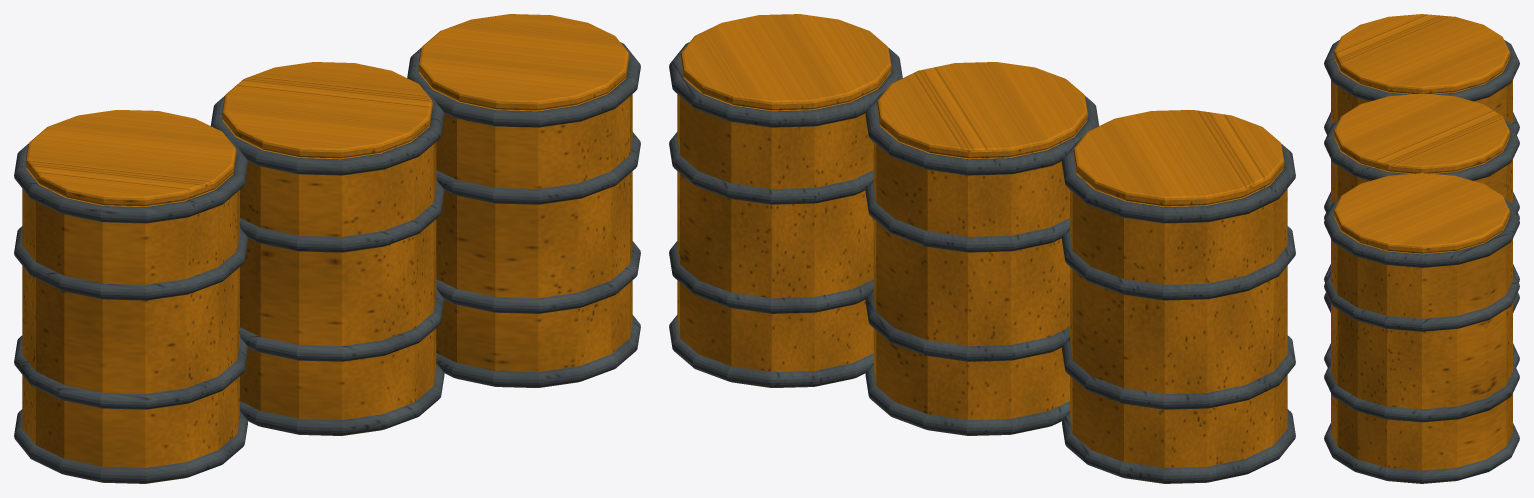
Rendered from PROP-5F26DBB829FB_lod0.glb.
3 views of the same model, side by side, from view 1: azimuth 30°, elevation 25°; view 2: azimuth 150°, elevation 25°; view 3: azimuth 270°, elevation 25° (orthographic). The views are drawn at different scales.
Parts seen in each view (by area): view 1: barrel_body.001, barrel_lid.001, barrel_ribs.001; view 2: barrel_body.001, barrel_lid.001, barrel_ribs.001; view 3: barrel_body.001, barrel_lid.001, barrel_ribs.001.
Boxes of the visible parts, box(x1,y1,x2,y2) form: barrel_body.001: box(22, 72, 632, 483); barrel_lid.001: box(25, 14, 629, 206); barrel_ribs.001: box(14, 42, 640, 483); barrel_body.001: box(677, 72, 1287, 483); barrel_lid.001: box(680, 14, 1284, 206); barrel_ribs.001: box(669, 42, 1295, 483); barrel_body.001: box(1331, 58, 1512, 483); barrel_lid.001: box(1333, 14, 1510, 253); barrel_ribs.001: box(1324, 40, 1519, 483).
Bounding box in the file's own units: 1.95 × 0.89 × 0.6664.
Materials: 2 (2 with a texture image).
